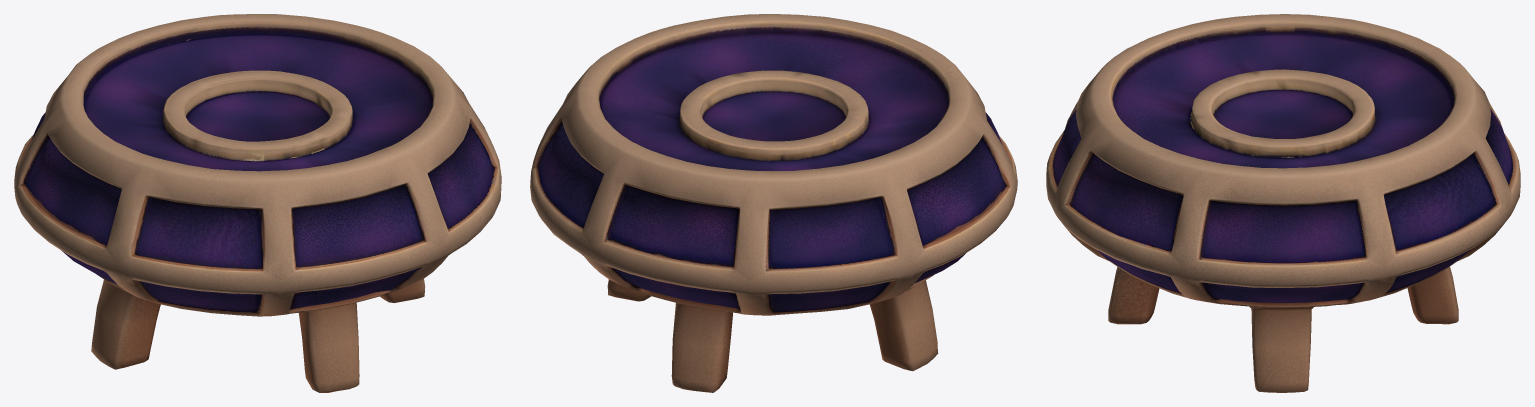
File: tripo_convert_1e624f67-725b-4a07-a732-ddf9a3aac7bf.fbx
3 views of the same model, side by side, from view 1: azimuth 30°, elevation 25°; view 2: azimuth 150°, elevation 25°; view 3: azimuth 270°, elevation 25° (orthographic). The views are drawn at different scales.
Parts seen in each view (by area): view 1: tripo_node_1e624f67; view 2: tripo_node_1e624f67; view 3: tripo_node_1e624f67.
Boxes of the visible parts, bbox=[...] form: tripo_node_1e624f67: bbox=[14, 14, 501, 392]; tripo_node_1e624f67: bbox=[530, 14, 1017, 392]; tripo_node_1e624f67: bbox=[1046, 14, 1520, 392].
Size of the model in its own units: 0.998 by 0.5215 by 0.998.
Materials: 1 (1 with a texture image).
